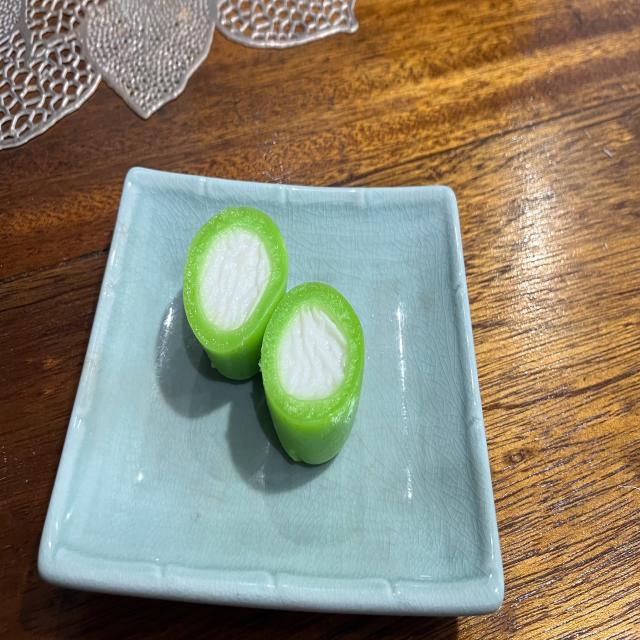nona-manis: (260, 282, 364, 464), (184, 207, 289, 380)
